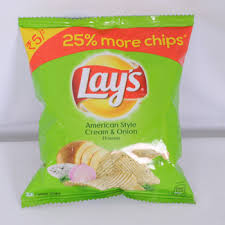lays-small-5: (17, 12, 195, 200)
